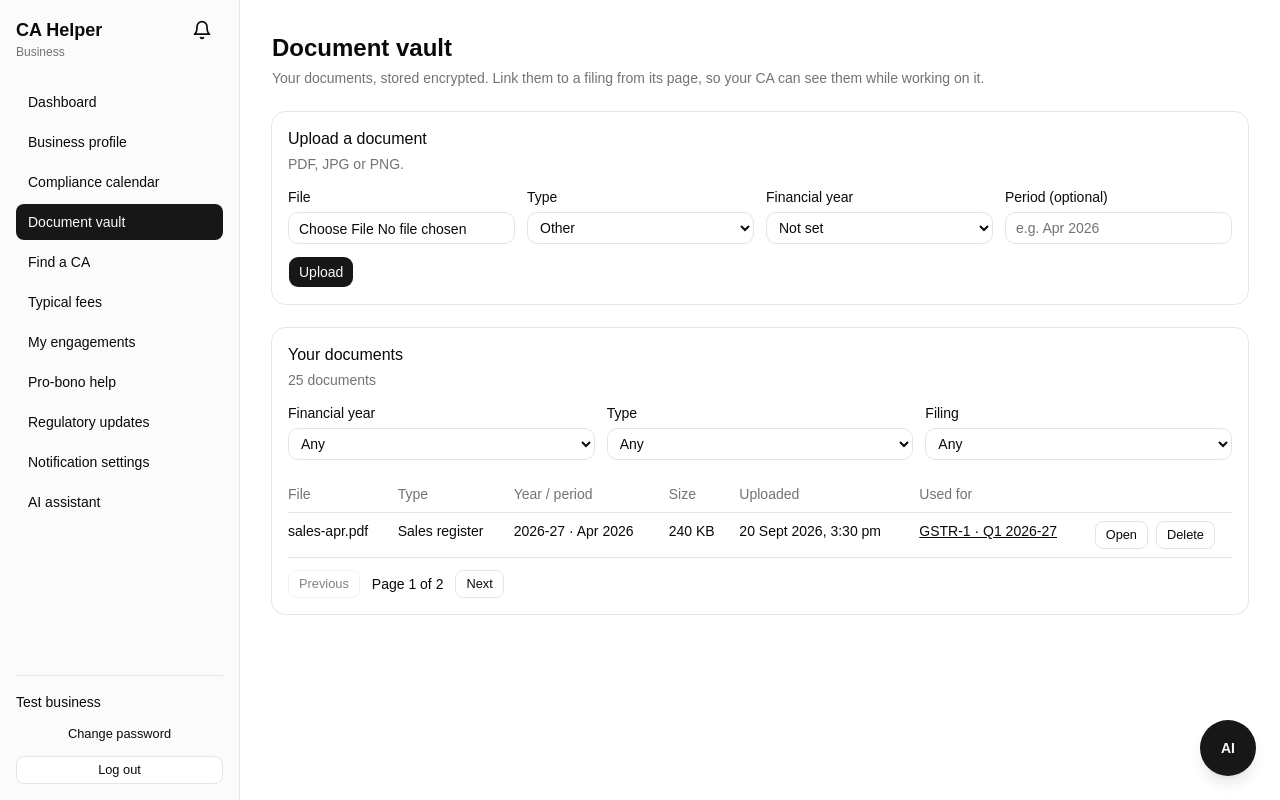
Test case: document vault › pages through a long list
Expected: the text "Page 1 of 2" is shown, x1=372 y1=574 x2=444 y2=594
Click the button "Next" at point(480, 584), box x1=456 y1=570 x2=504 y2=598
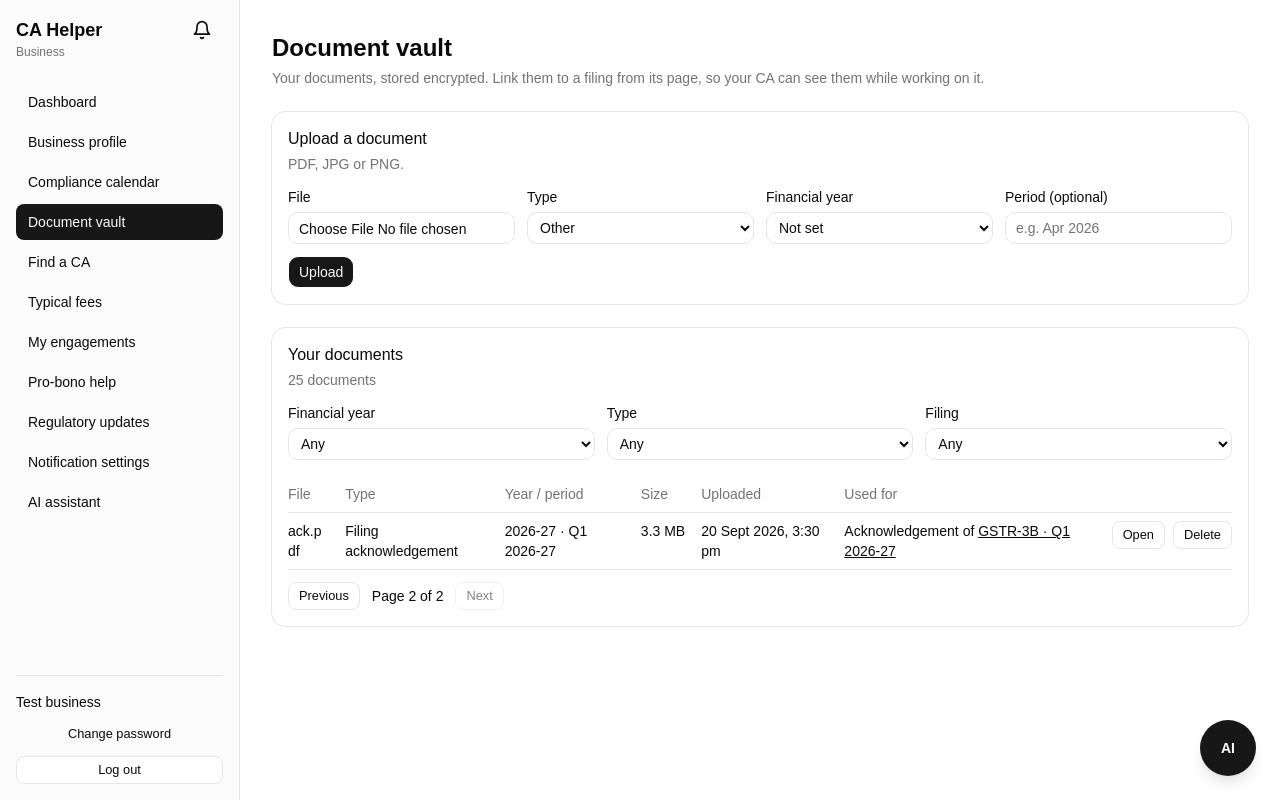
Now the text "ack.pdf" is shown, box x1=288 y1=512 x2=345 y2=570
Now the text "Page 2 of 2" is shown, box x1=372 y1=586 x2=444 y2=606
